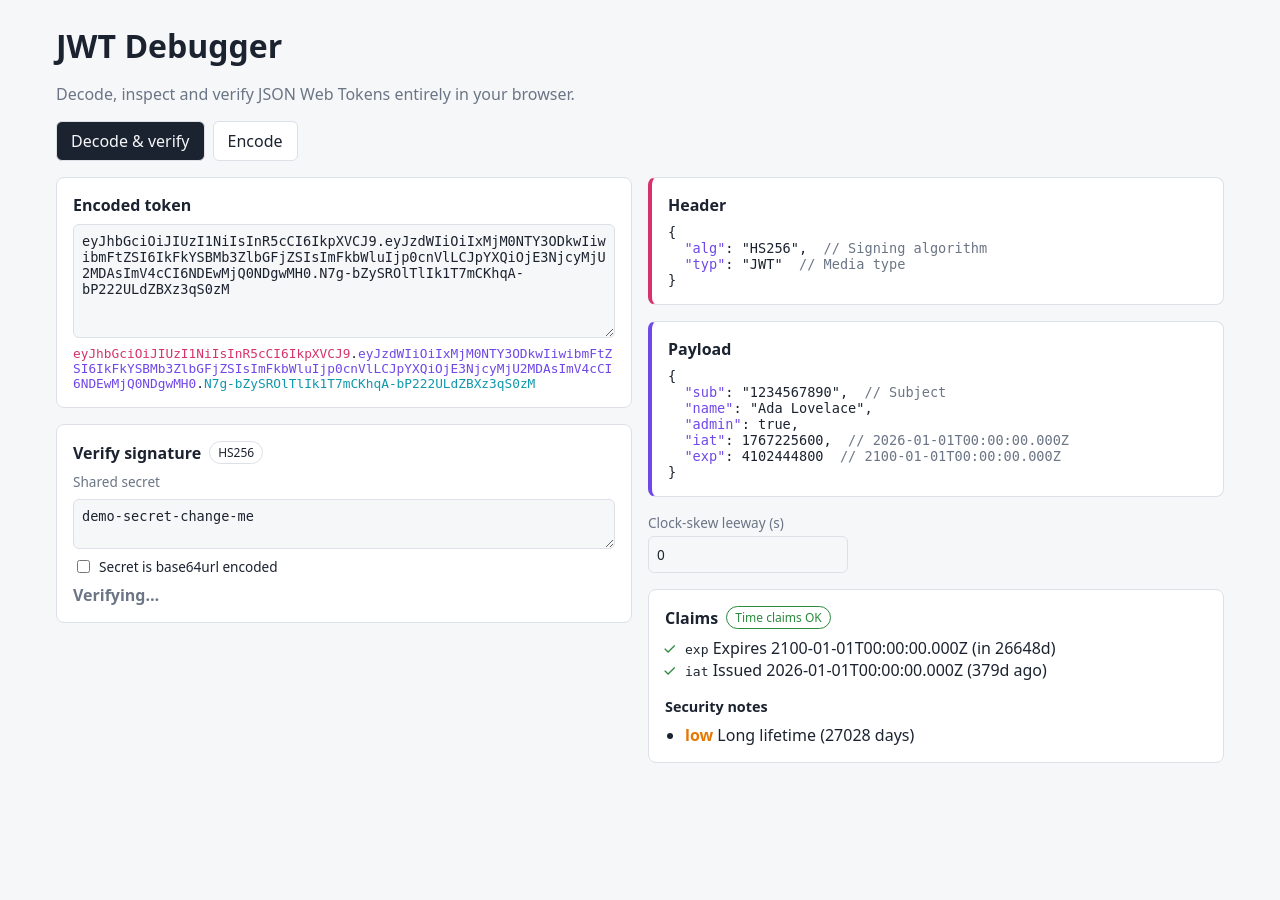
Test: <App /> › reports malformed tokens
Replace the text in the text box labelled "Encoded token" with "not-a-token": (344, 281) left=73, top=224, right=615, bottom=338
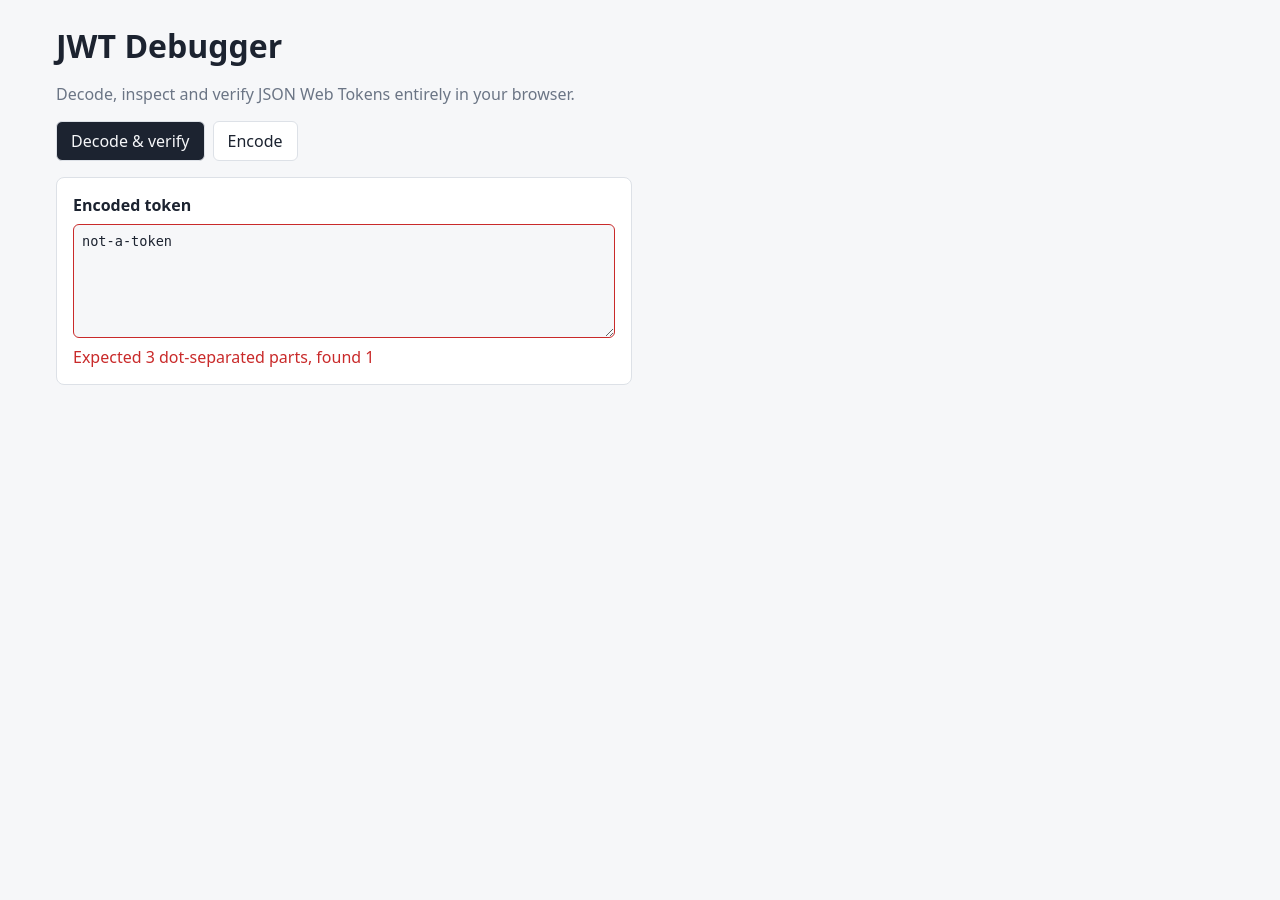
Now the message shows "3 dot-separated parts", box left=73, top=346, right=374, bottom=368
